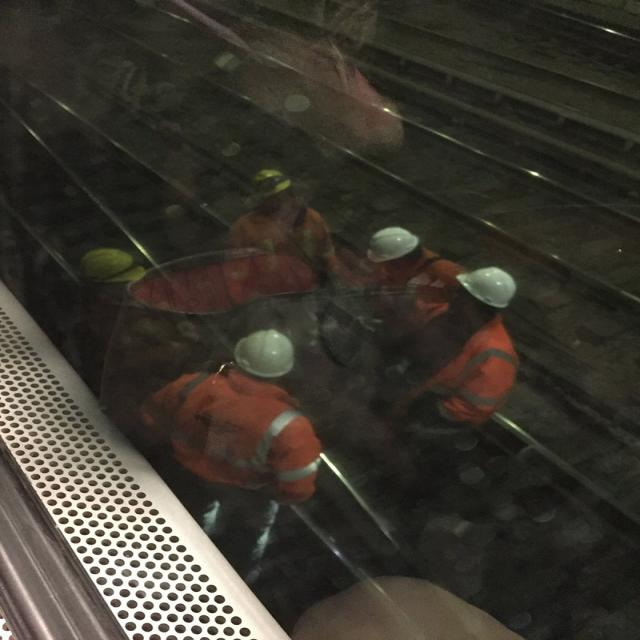body: (365, 262, 532, 548), (134, 328, 324, 574), (224, 168, 345, 370), (60, 246, 146, 398), (353, 224, 468, 326)
